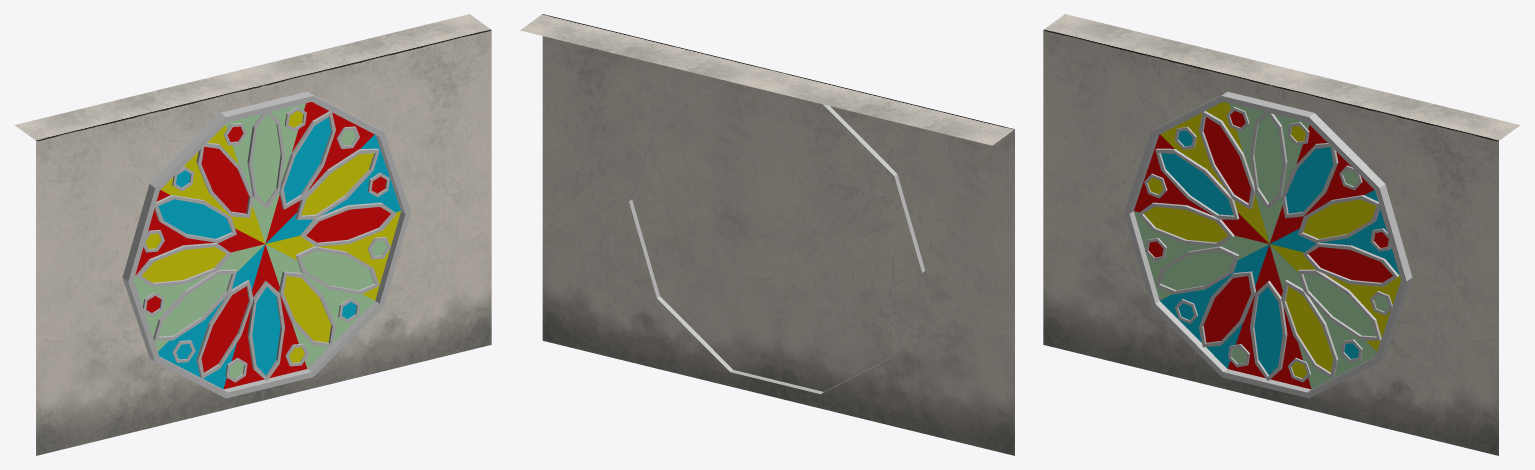
File: motherRoom_wall_BIG.fbx
3 views of the same model, side by side, from view 1: azimuth 30°, elevation 25°; view 2: azimuth 150°, elevation 25°; view 3: azimuth 330°, elevation 25° (orthographic). The views are drawn at different scales.
Parts seen in each view (by area): view 1: motherWall_BIG; view 2: motherWall_BIG; view 3: motherWall_BIG.
Part boxes in pixels (x1,y1,x2,y2): motherWall_BIG: [14, 14, 491, 455]; motherWall_BIG: [520, 14, 1014, 455]; motherWall_BIG: [1043, 14, 1520, 455].
Size of the model in its own units: 605 by 400 by 63.44.
